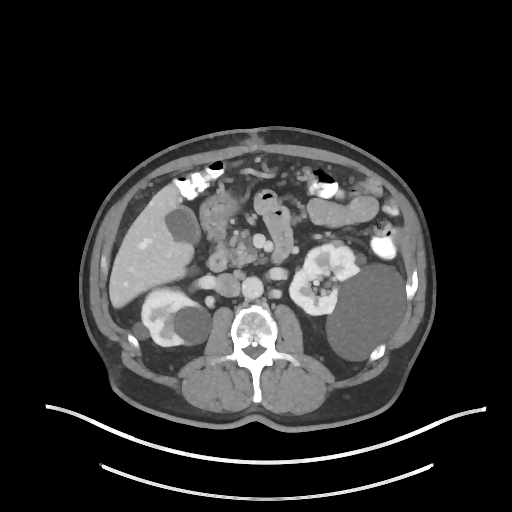Lesion: (329, 237, 346, 252)
